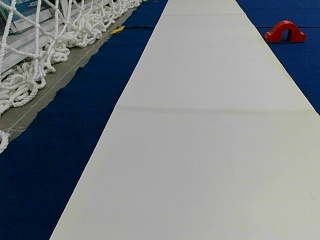bridge: (266, 21, 306, 41)
